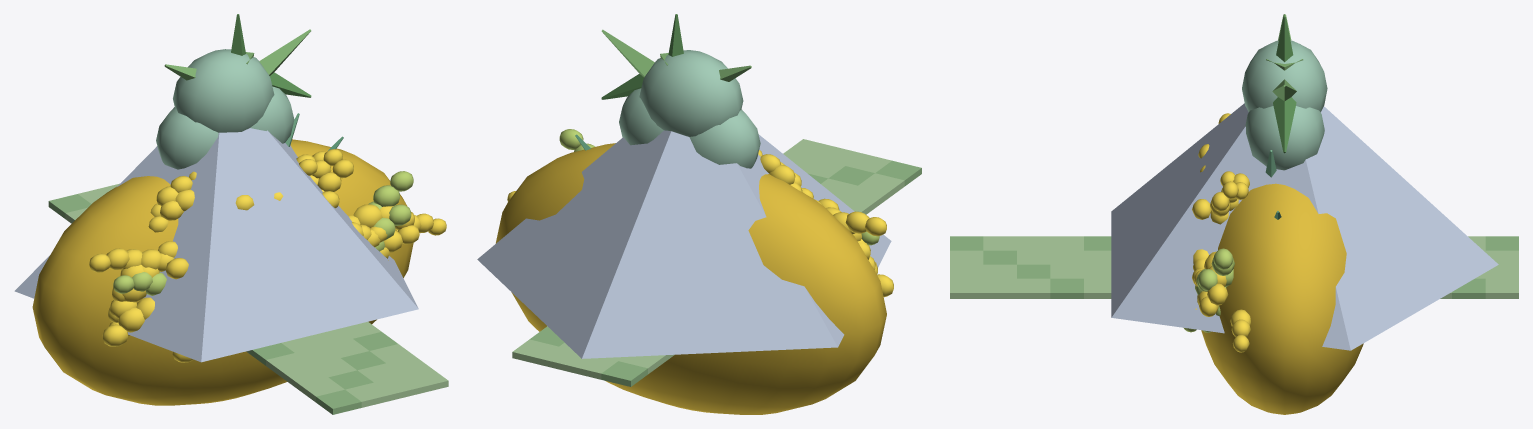
File: kit.glb
3 renders of one model, left to right at view 1: azimuth 30°, elevation 25°; view 2: azimuth 150°, elevation 25°; view 3: azimuth 270°, elevation 25°, orthographic. The views are drawn at different scales.
Visible parts, largest first — view 1: mountain, pile, floor_grove, tree, palm; view 2: mountain, pile, tree, floor_grove, palm; view 3: mountain, pile, floor_grove, tree, palm.
Boxes of the visible parts, x1=… form: mountain: x1=14, y1=128, x2=418, y2=362; pile: x1=32, y1=139, x2=446, y2=405; floor_grove: x1=48, y1=183, x2=448, y2=414; tree: x1=156, y1=49, x2=294, y2=169; palm: x1=164, y1=14, x2=311, y2=97; mountain: x1=477, y1=130, x2=891, y2=358; pile: x1=496, y1=129, x2=893, y2=414; tree: x1=619, y1=50, x2=760, y2=168; floor_grove: x1=512, y1=139, x2=921, y2=386; palm: x1=601, y1=14, x2=751, y2=99; mountain: x1=1111, y1=103, x2=1498, y2=350; pile: x1=1183, y1=113, x2=1363, y2=414; floor_grove: x1=950, y1=236, x2=1518, y2=298; tree: x1=1242, y1=40, x2=1327, y2=170; palm: x1=1266, y1=14, x2=1303, y2=153.
Size of the model in its own units: 6.68 by 6.2 by 8.5.
